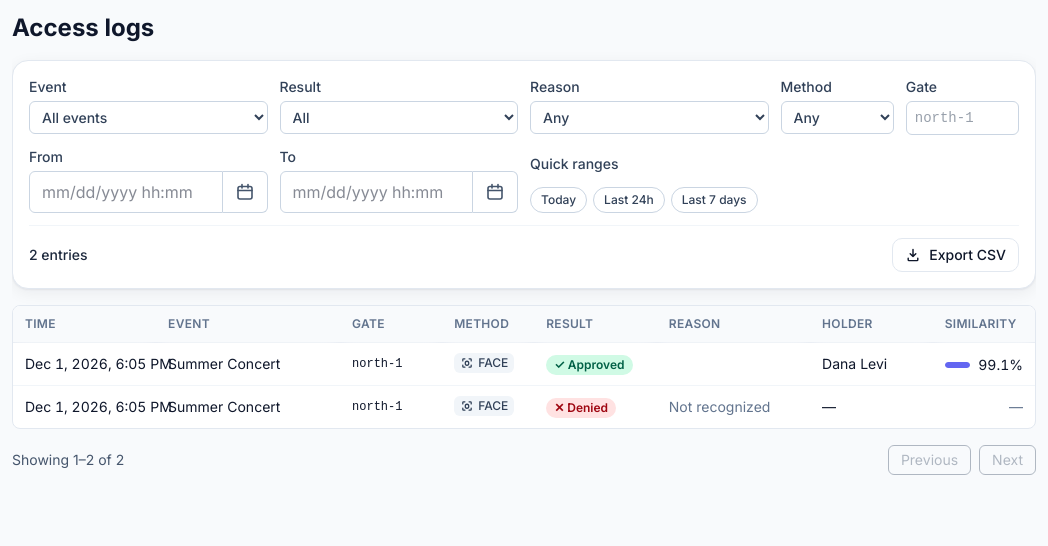
Test: LogsPage › sends the time range in UTC and blocks from ≥ to
Expected: the table is shown, [13,306,1035,428]
Type "12/01/2026 20:00" into the field labelled "From" at (126, 192), box [29,171,222,213]
Then press Enter
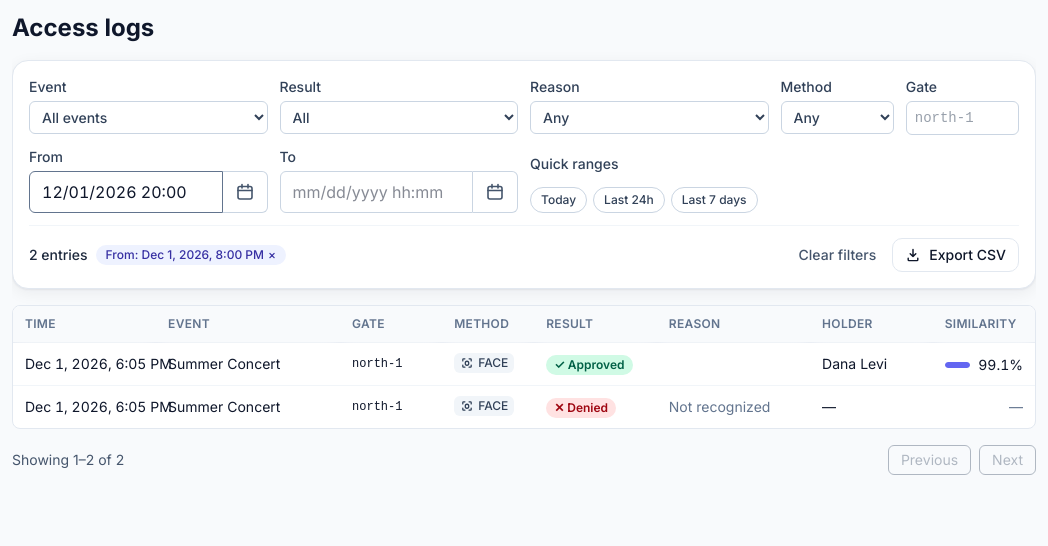
Type "12/01/2026 19:00" into the field labelled "To" at (376, 192), box [280,171,473,213]
Then press Enter
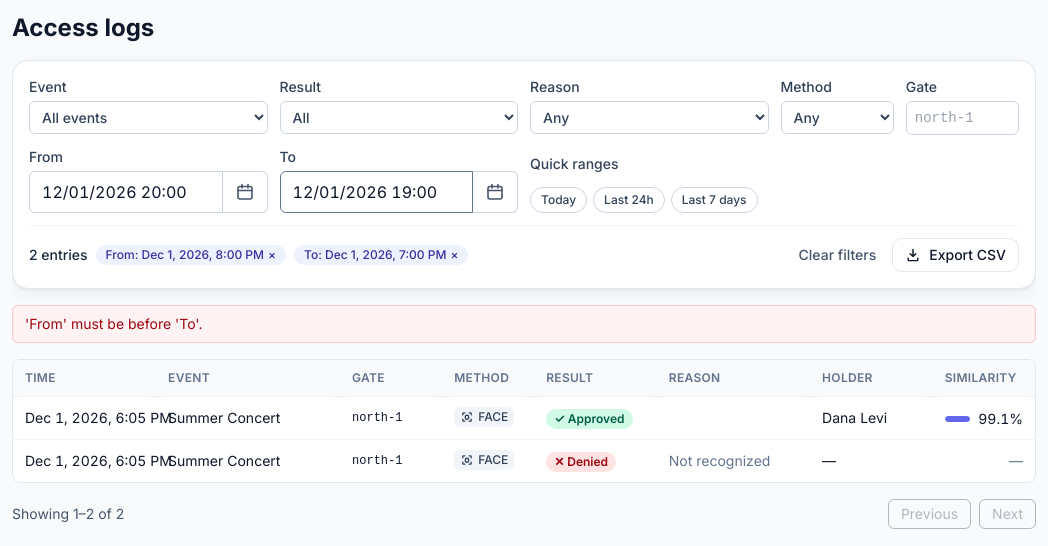
Now the message reads "'From' must be before 'To'.", box [25,315,202,332]
